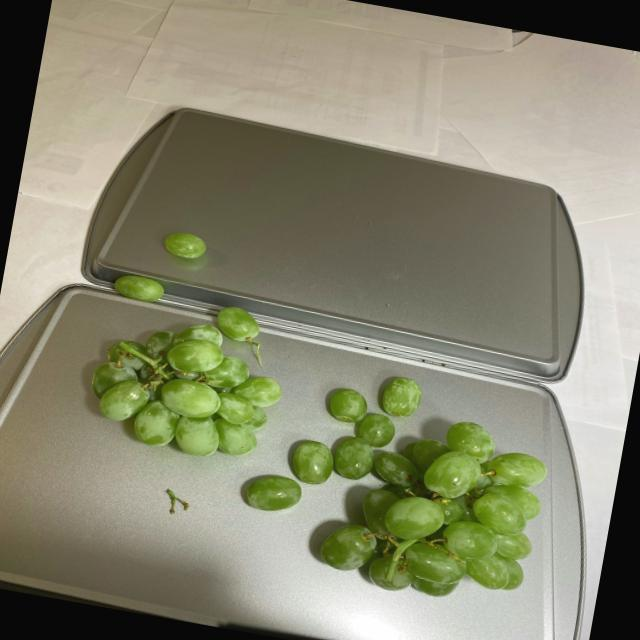grapes: (66, 222, 582, 618)
